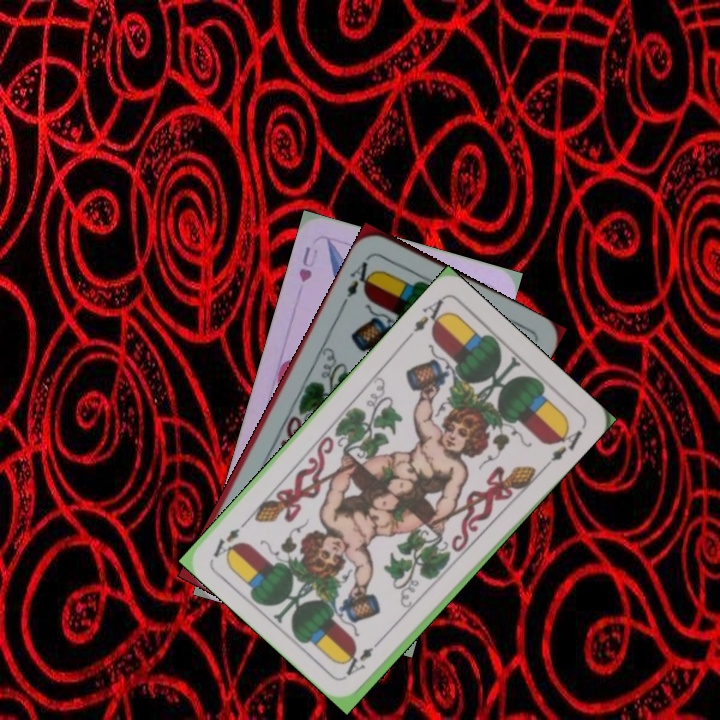EA: (402, 295, 451, 342), (339, 252, 379, 307), (341, 632, 387, 679)
HU: (294, 242, 321, 285)
